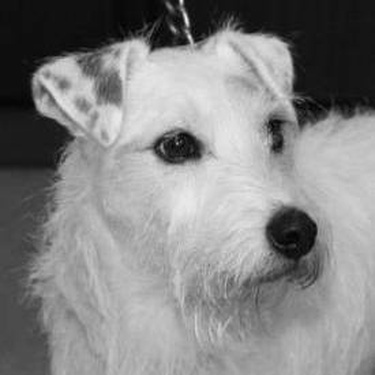dog: (22, 23, 371, 373)
